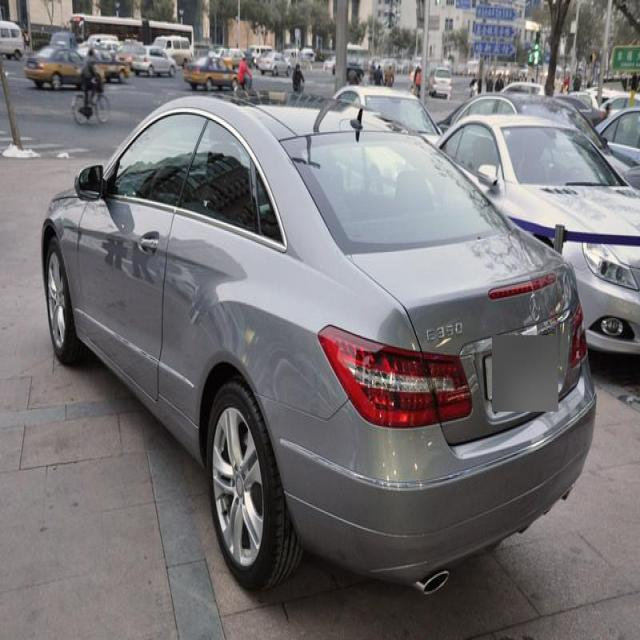back_glass: (278, 129, 512, 260)
back_left_side_light: (316, 322, 476, 433)
back_right_side_light: (564, 302, 590, 371)
front_left_side_door: (74, 107, 210, 408)
front_left_side_mirror: (74, 164, 105, 203)
rear_bumper: (250, 350, 599, 583)
wheel: (206, 378, 303, 592), (46, 238, 86, 366)
